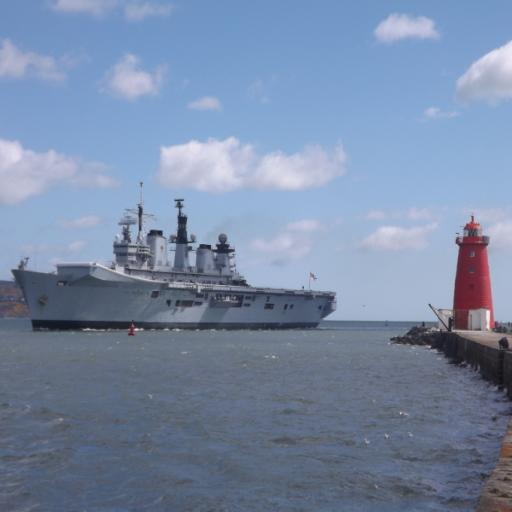Portanaves: (9, 174, 341, 337)
